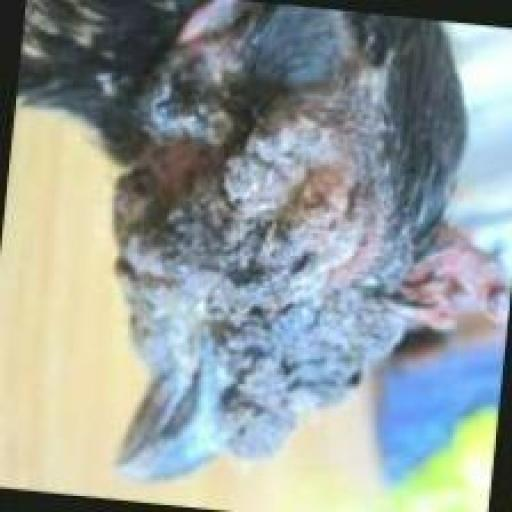disease: (113, 0, 512, 455)
